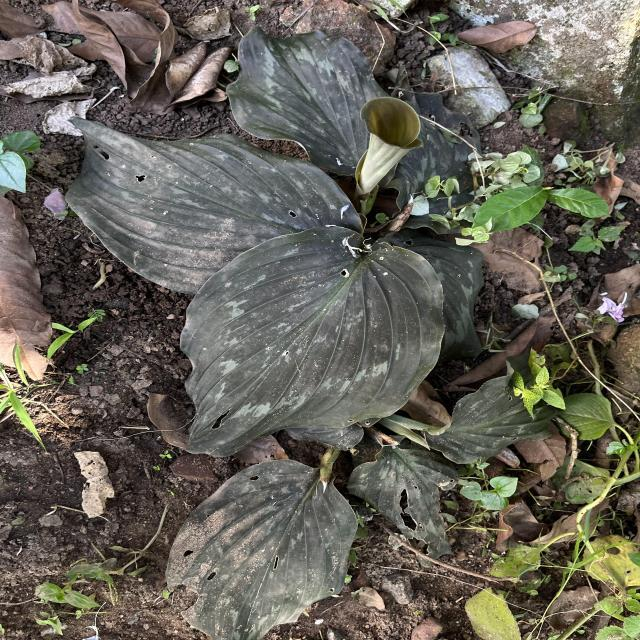Kaempferia galanga linn: (176, 224, 448, 461), (62, 113, 366, 297), (162, 456, 360, 640), (224, 22, 393, 178)
